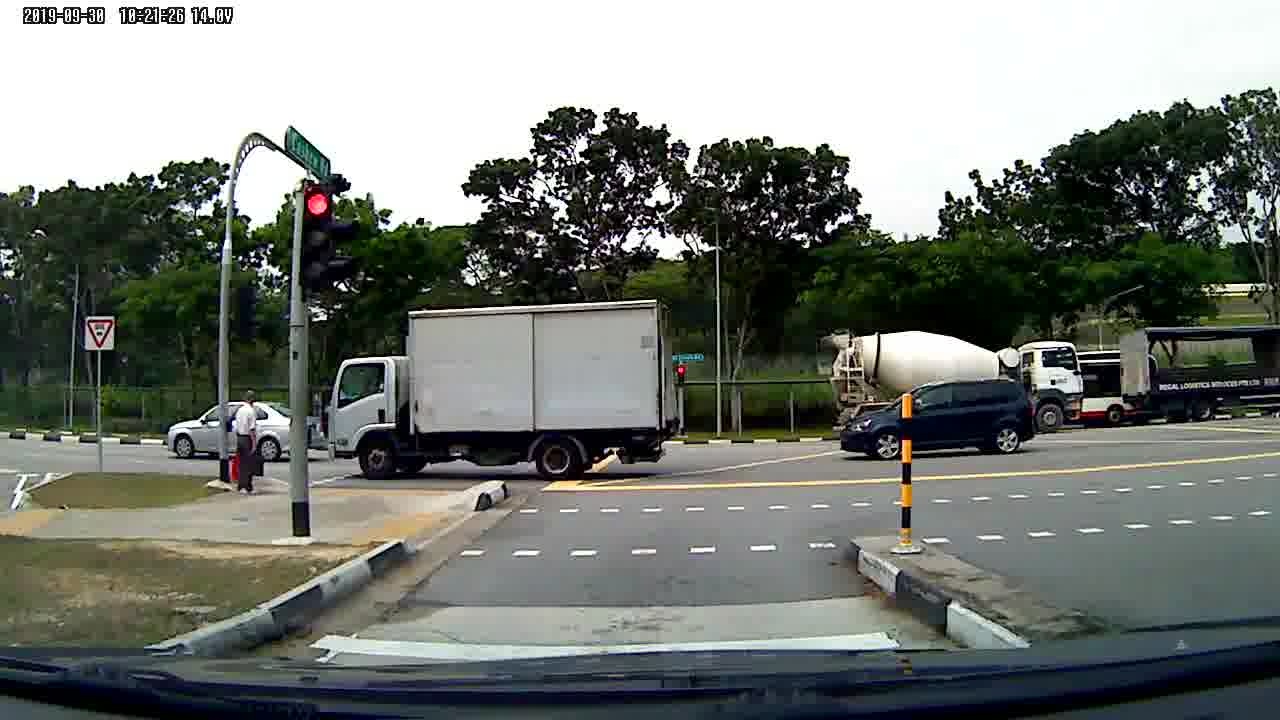car: (834, 381, 1037, 461), (165, 399, 311, 457)
